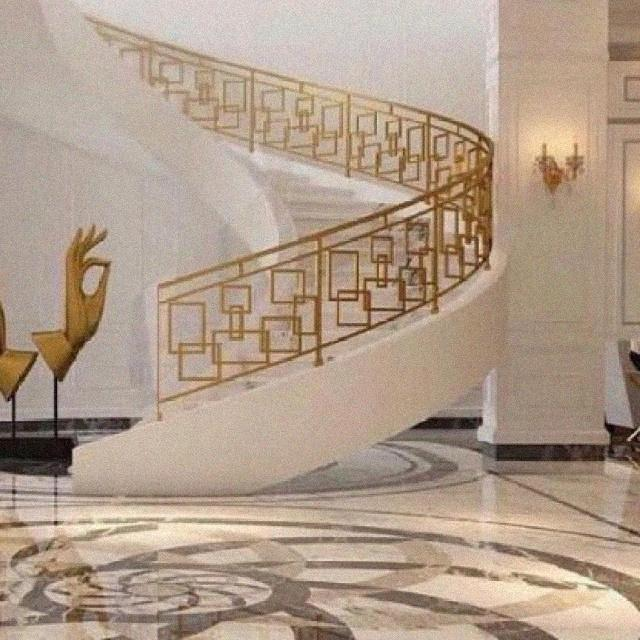stair: (86, 89, 503, 498)
